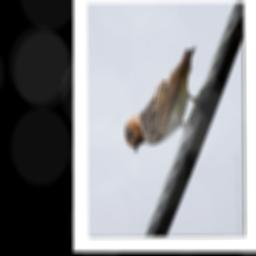Swallow: (122, 43, 202, 155)
